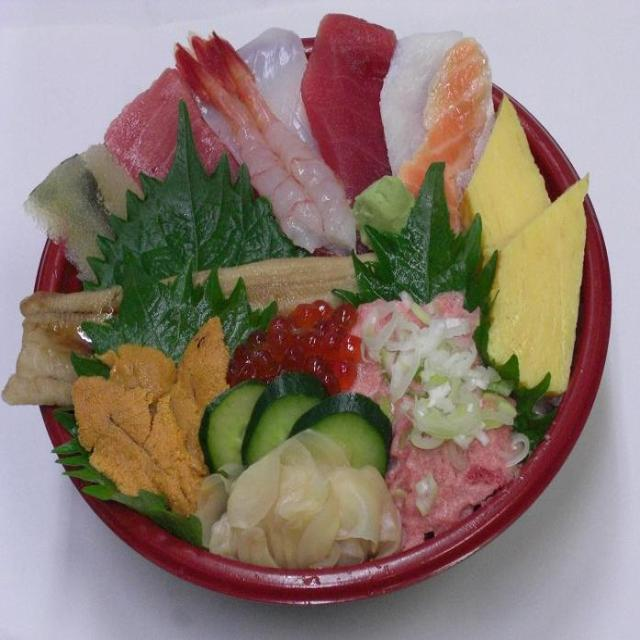刺身生食: (3, 0, 612, 611)
